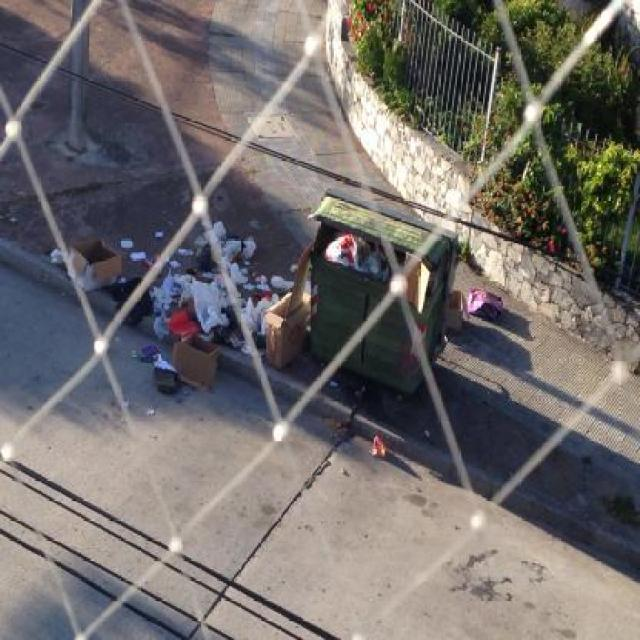garbage: (139, 226, 272, 359), (54, 237, 135, 298), (154, 342, 220, 403), (460, 280, 504, 318)
